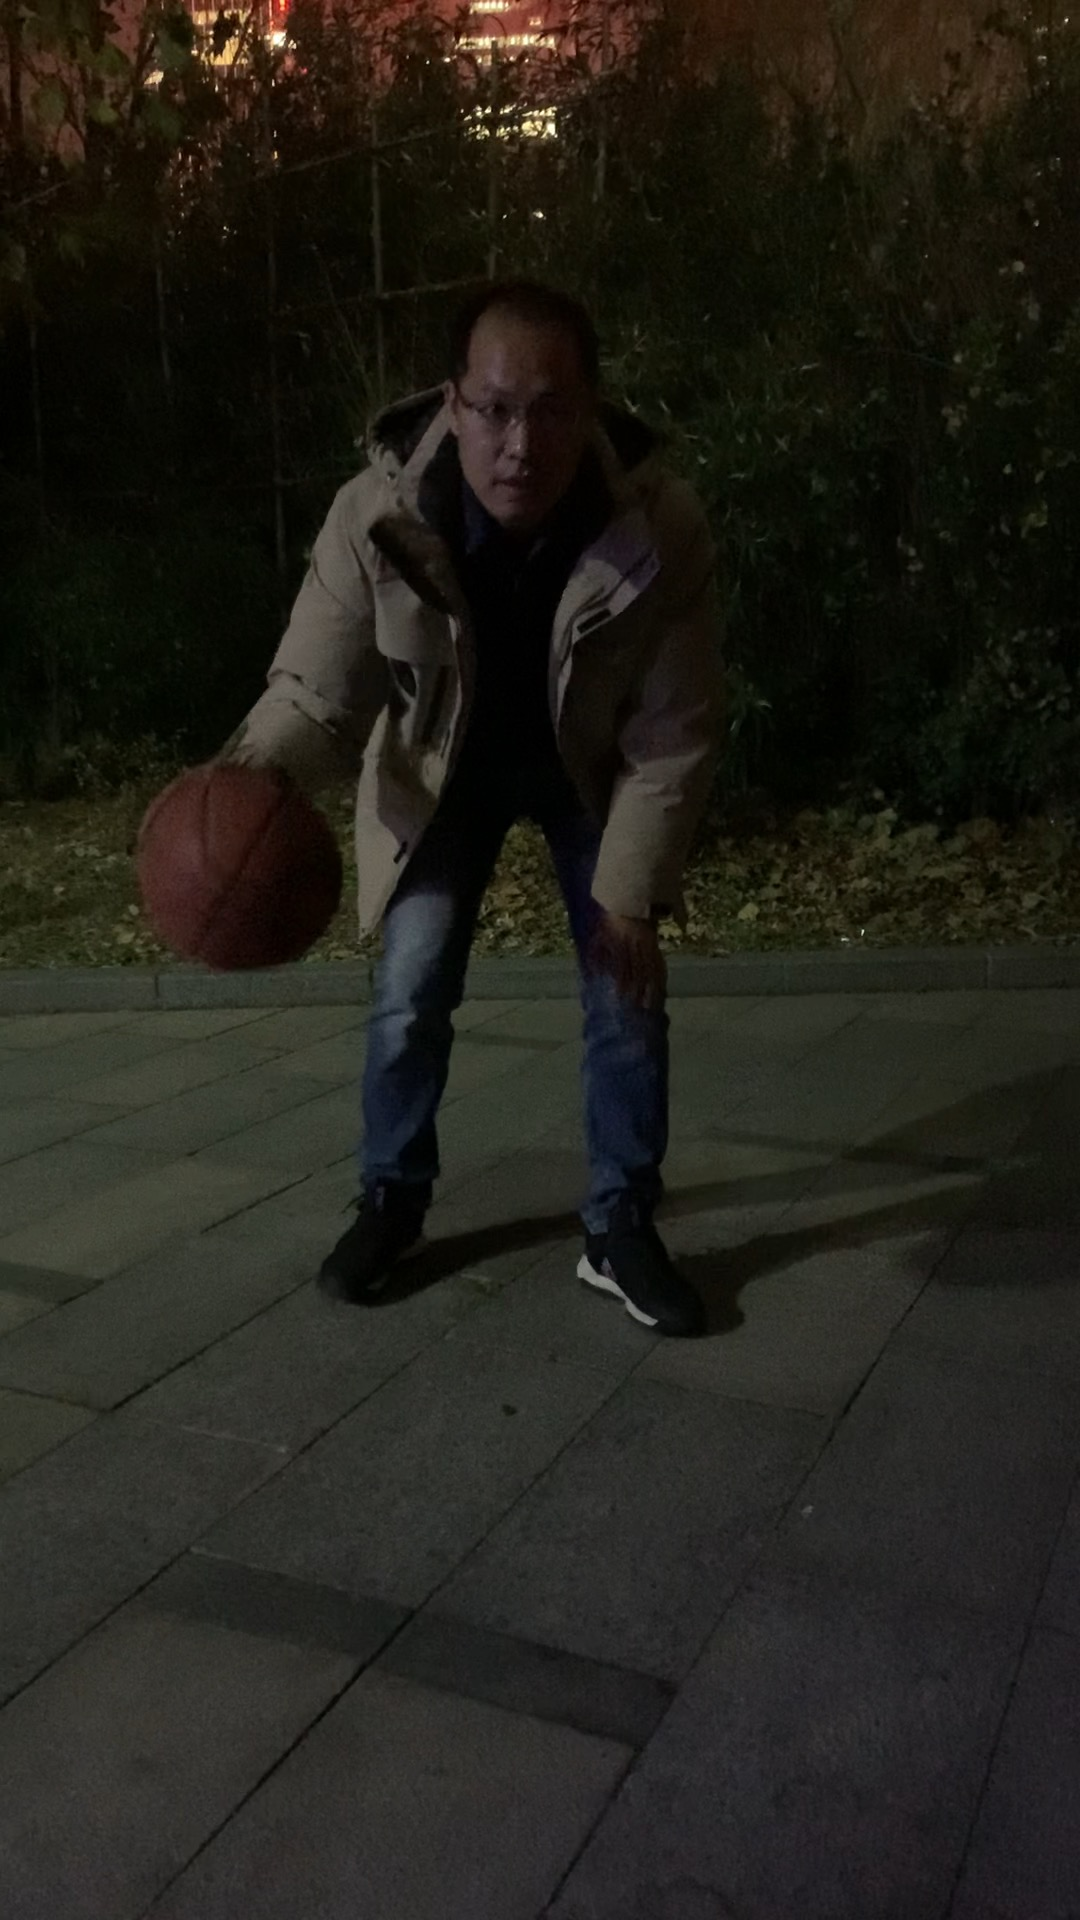ball: (136, 764, 342, 976)
